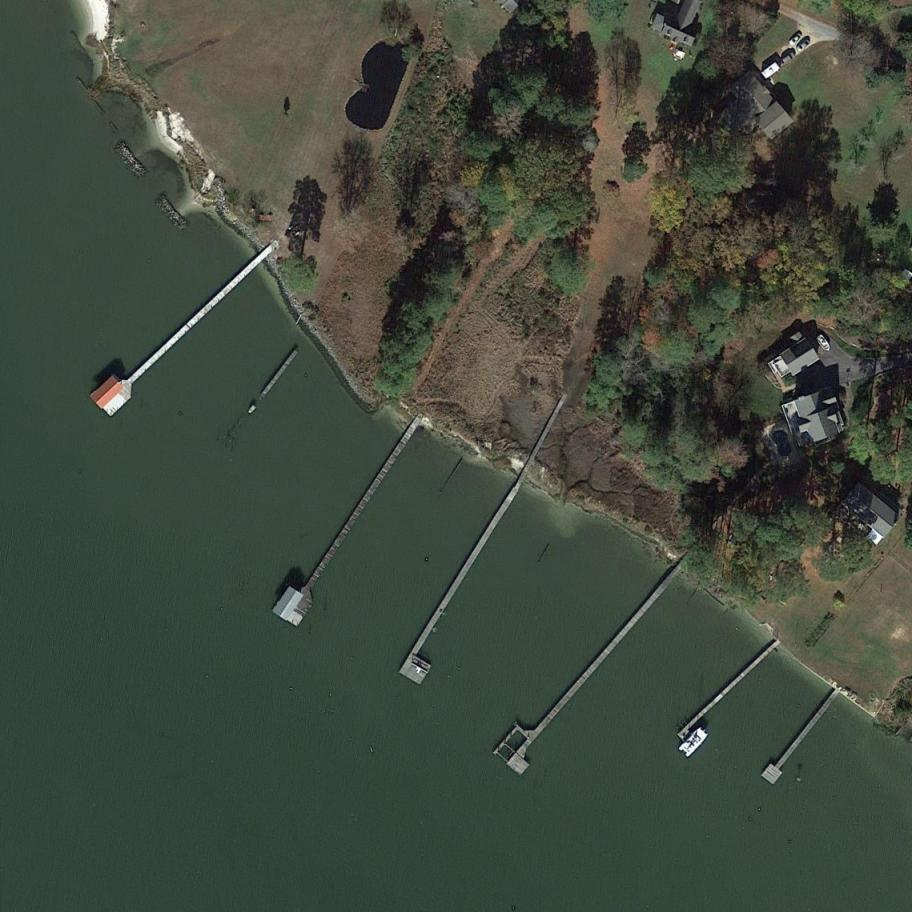ship: (676, 722, 713, 762), (811, 327, 839, 359)
small-vehicle: (787, 31, 804, 49), (796, 38, 811, 54), (779, 51, 796, 65)
